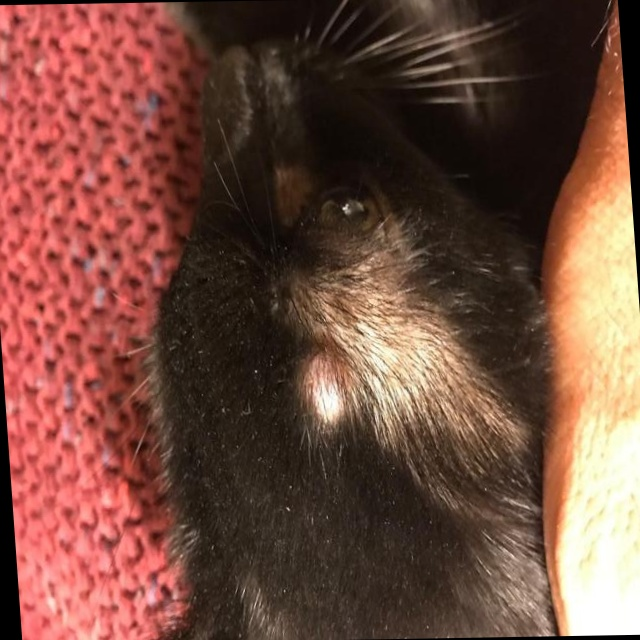lump_and_bump: (300, 358, 356, 422)
